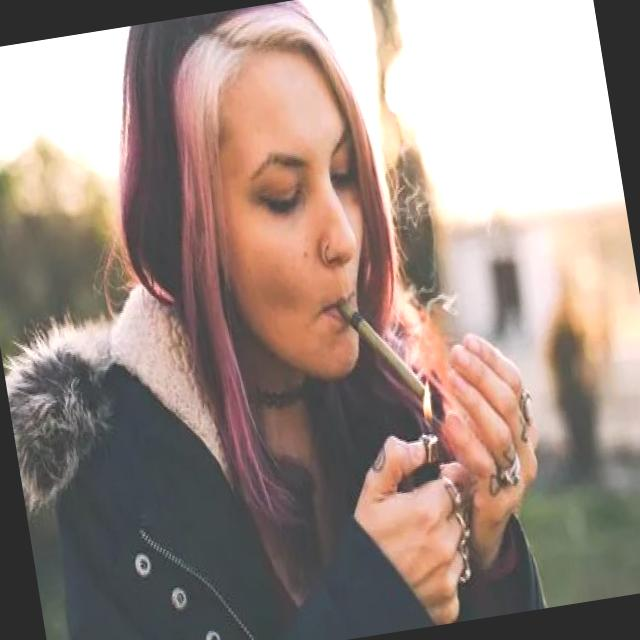smoke: (334, 289, 434, 418)
